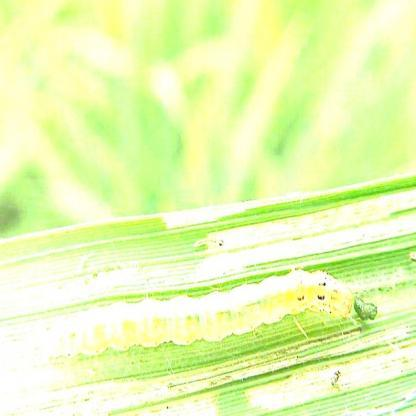leaf-folder: (46, 243, 378, 361)
